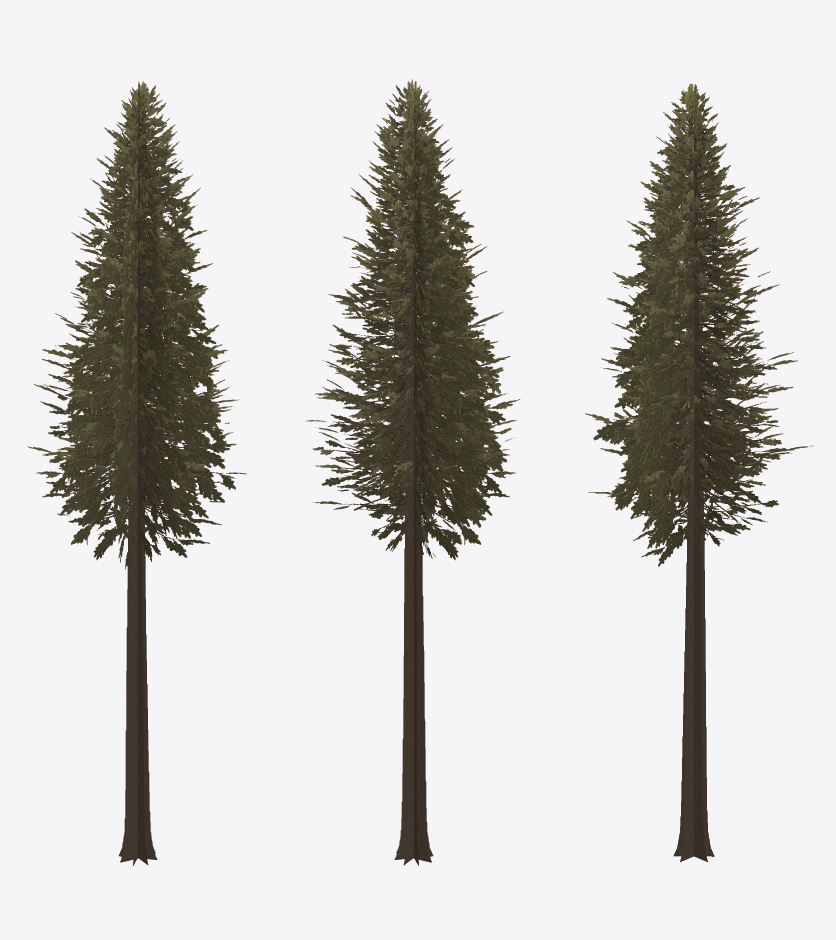
The model's file is fir_giant_b_lod6_cross.gltf.
3 views of the same model, side by side, from view 1: azimuth 30°, elevation 25°; view 2: azimuth 150°, elevation 25°; view 3: azimuth 270°, elevation 25° (orthographic).
Visible parts, largest first — view 1: fir_giant_b_LOD6; view 2: fir_giant_b_LOD6; view 3: fir_giant_b_LOD6.
Boxes of the visible parts, left/top/right/bottom form: fir_giant_b_LOD6: left=27, top=81, right=246, bottom=865; fir_giant_b_LOD6: left=305, top=79, right=520, bottom=865; fir_giant_b_LOD6: left=585, top=83, right=813, bottom=861.
Bounding box in the file's own units: 13.36 × 46.37 × 13.36.
Materials: 1 (1 with a texture image).
